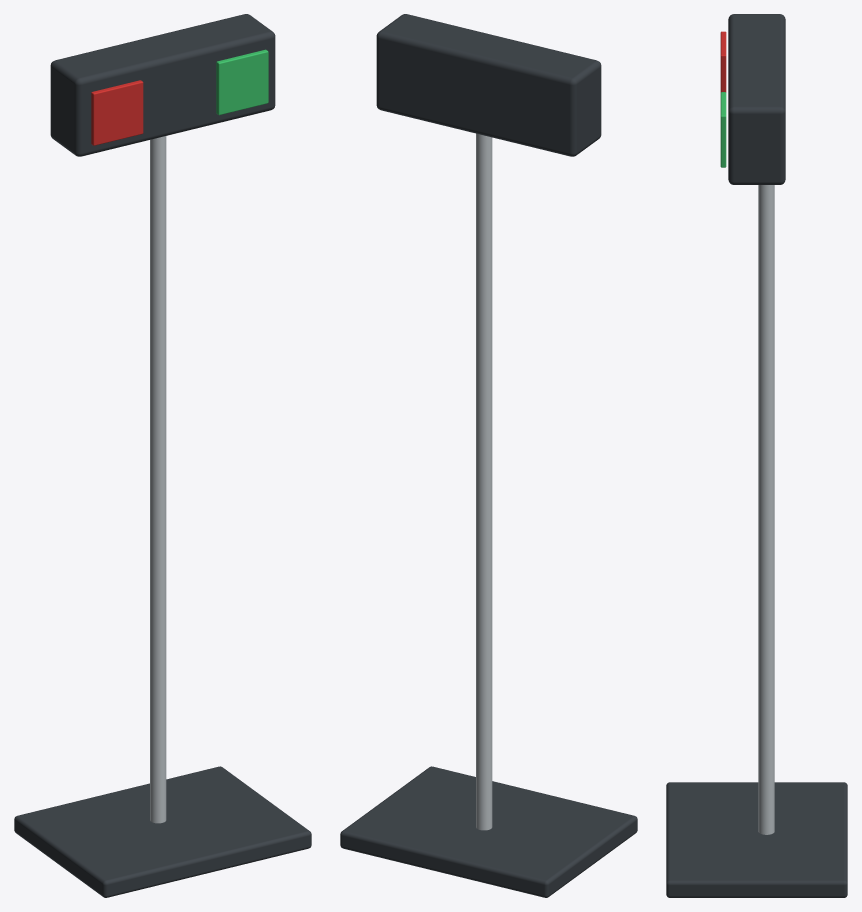
The model's file is fencing-club-and-tournament-piste-repeater-lamp-0a744a05__31213.glb.
The picture shows the model from 3 angles, left to right: view 1: azimuth 30°, elevation 25°; view 2: azimuth 150°, elevation 25°; view 3: azimuth 270°, elevation 25°; orthographic projection.
Visible parts, largest first — view 1: repeater-lamp; view 2: repeater-lamp; view 3: repeater-lamp.
Boxes of the visible parts, x1,y1,x2,y2 form: repeater-lamp: (14, 14, 311, 897); repeater-lamp: (340, 14, 637, 897); repeater-lamp: (666, 14, 847, 897).
Bounding box in the file's own units: 0.4999 × 1.82 × 0.3799.
